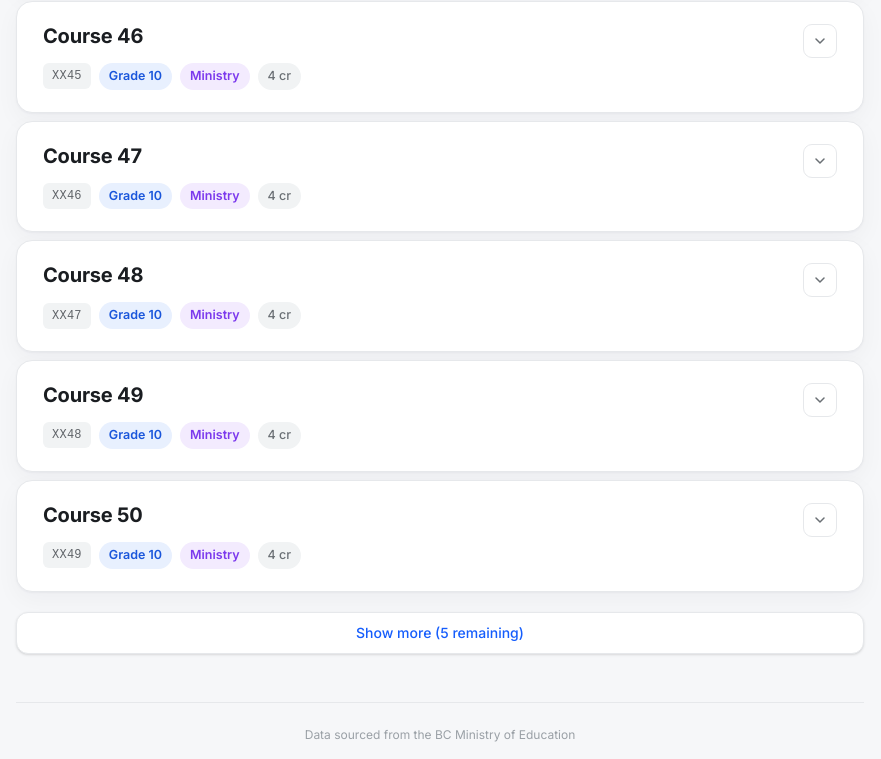
Test: Home page — pagination › loads the next page on click and hides the button when all results are shown
(page scrolled)
Click the button "Show more (5 remaining)" at [440, 633], box [16,612,864,654]
(page scrolled)
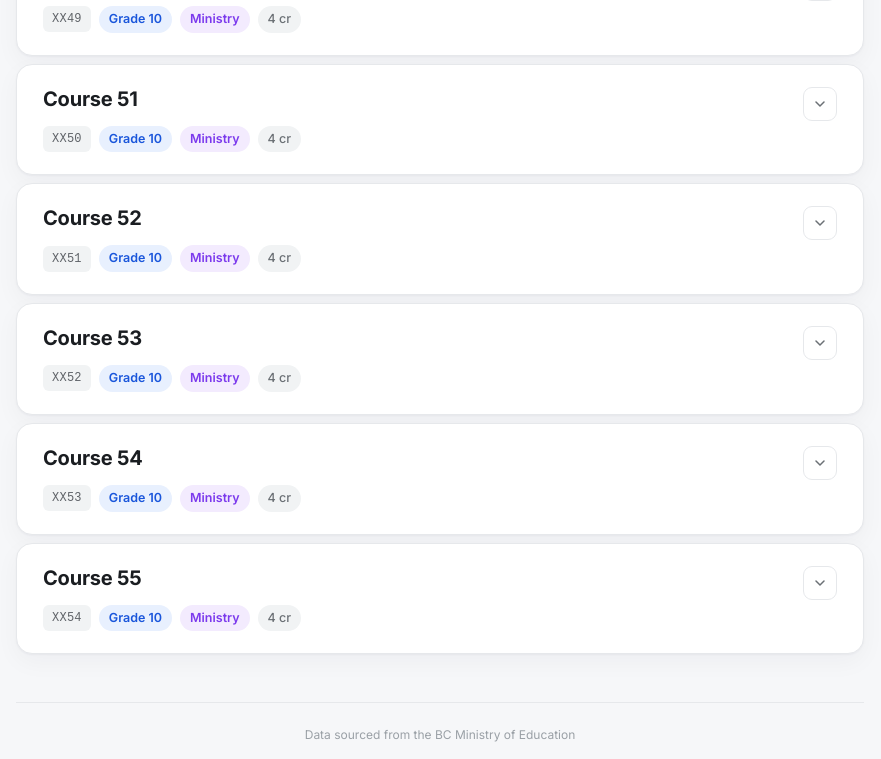
Expected: the text "Course 55" is shown, [43,566,142,590]
Expected: the button "Show more" is gone
